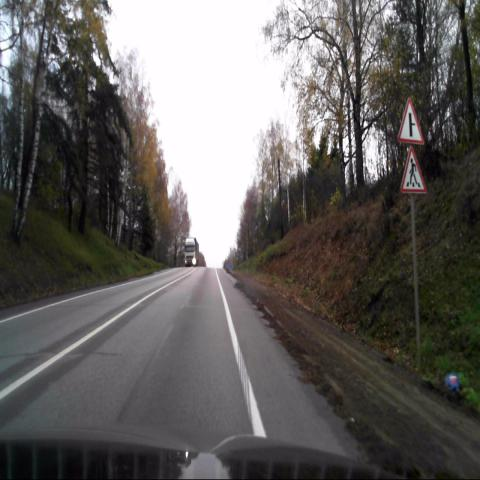1_22: (400, 146, 426, 195)
2_3_2: (397, 98, 423, 146)
